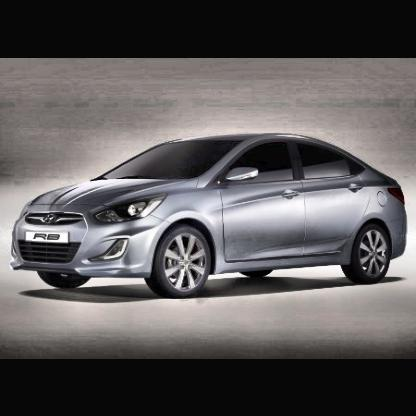Hyundai Accent Sedan 2012: (11, 135, 408, 299)
